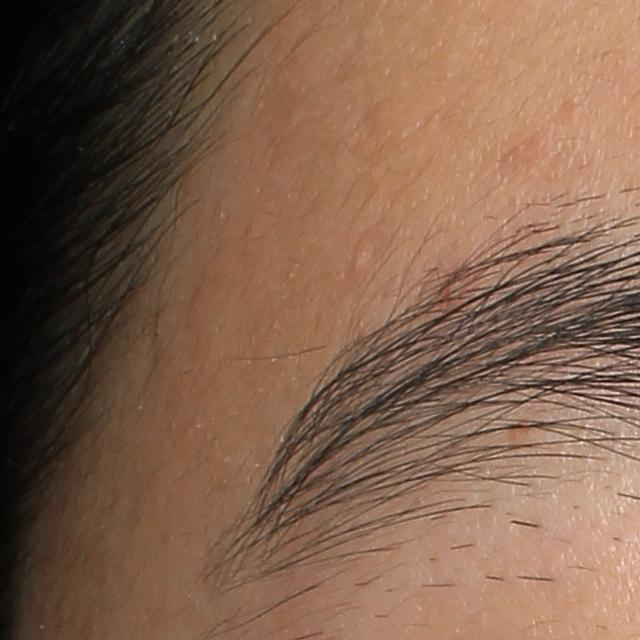papule: (347, 230, 379, 283)
